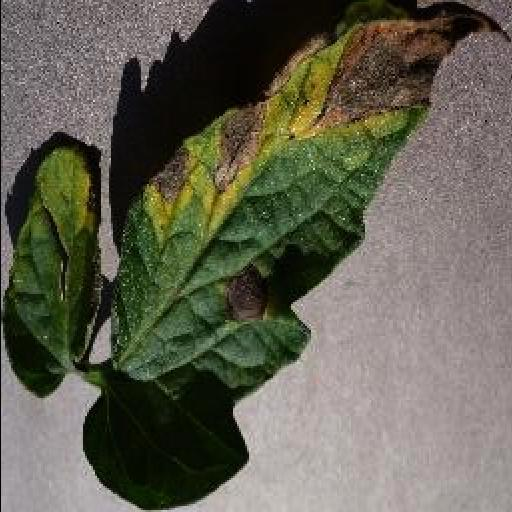disease_tomato: (80, 8, 508, 512)
